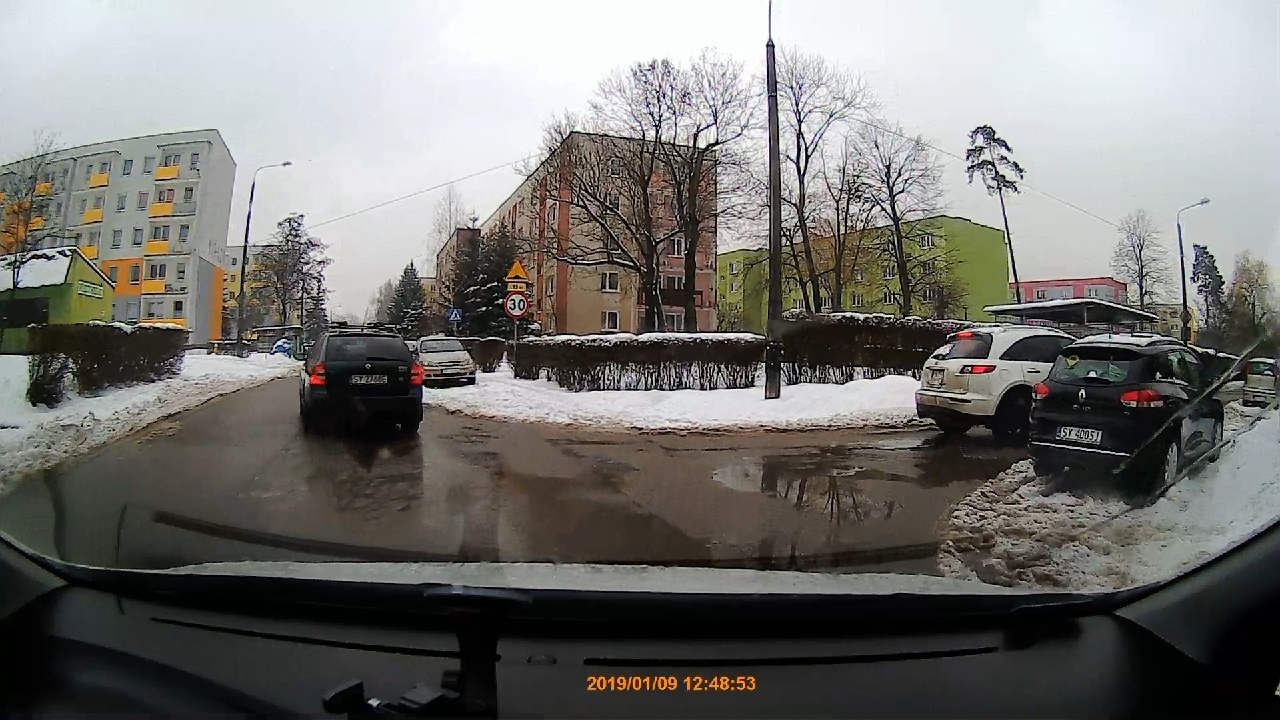B33_30: (501, 292, 532, 317)
